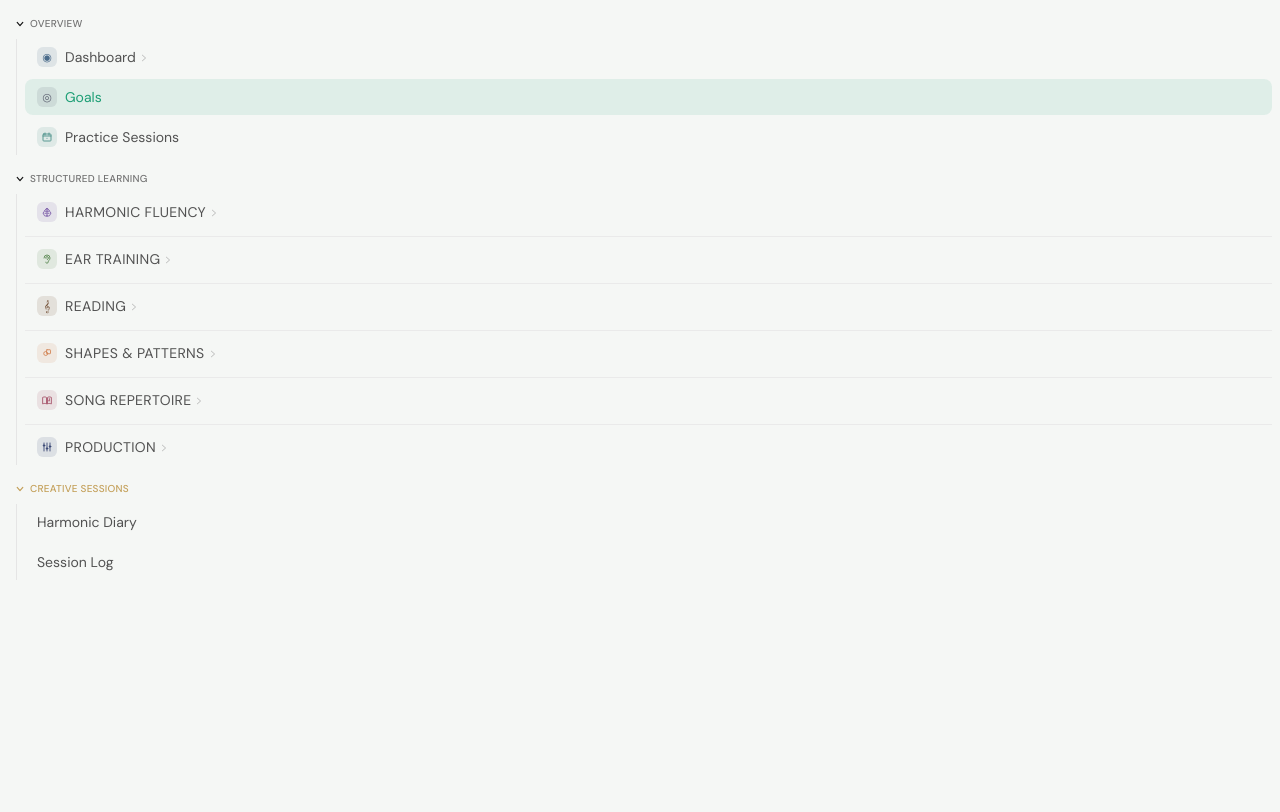
Test: collapse all › says so in the words it was asked for in
Click the link "𝄞 reading" at (88, 306), box [37,296,138,316]
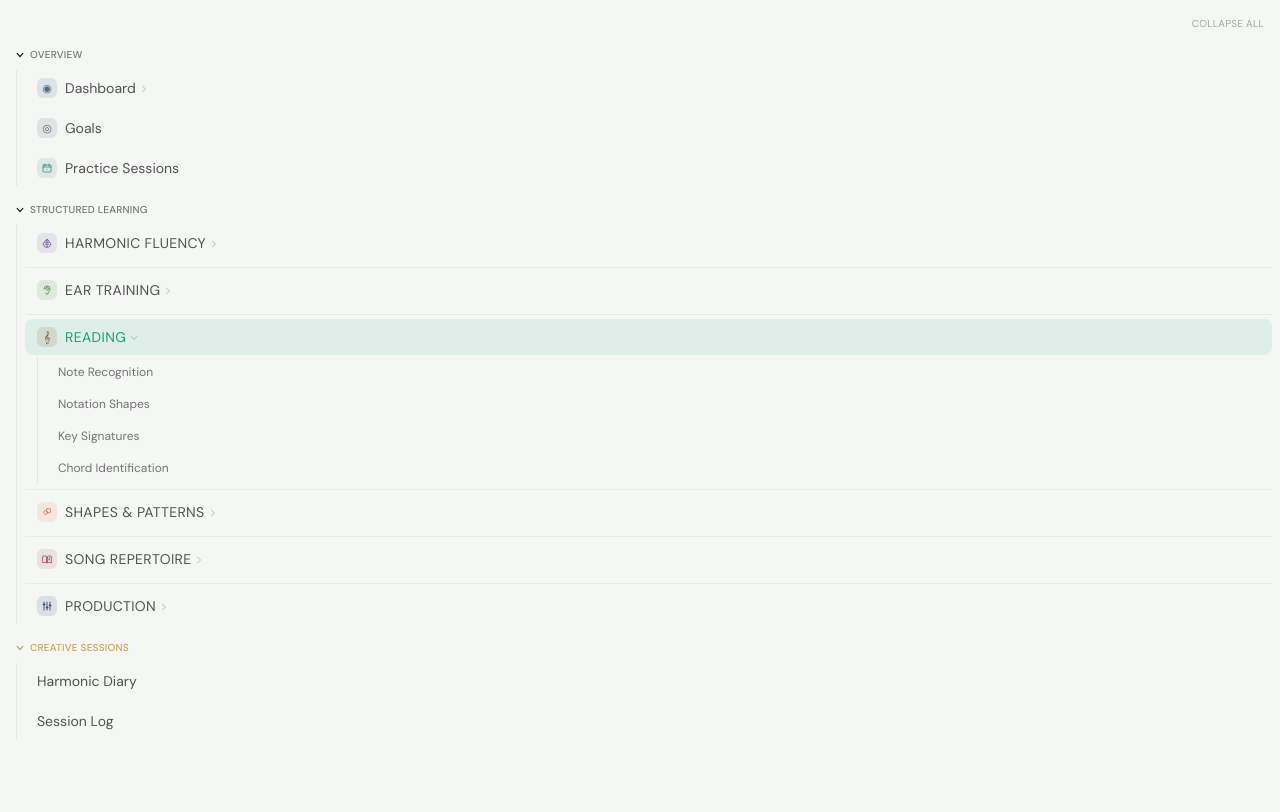
Check: the button with test id "nav-collapse-all" reads "Collapse all", box [1184,12,1272,35]
